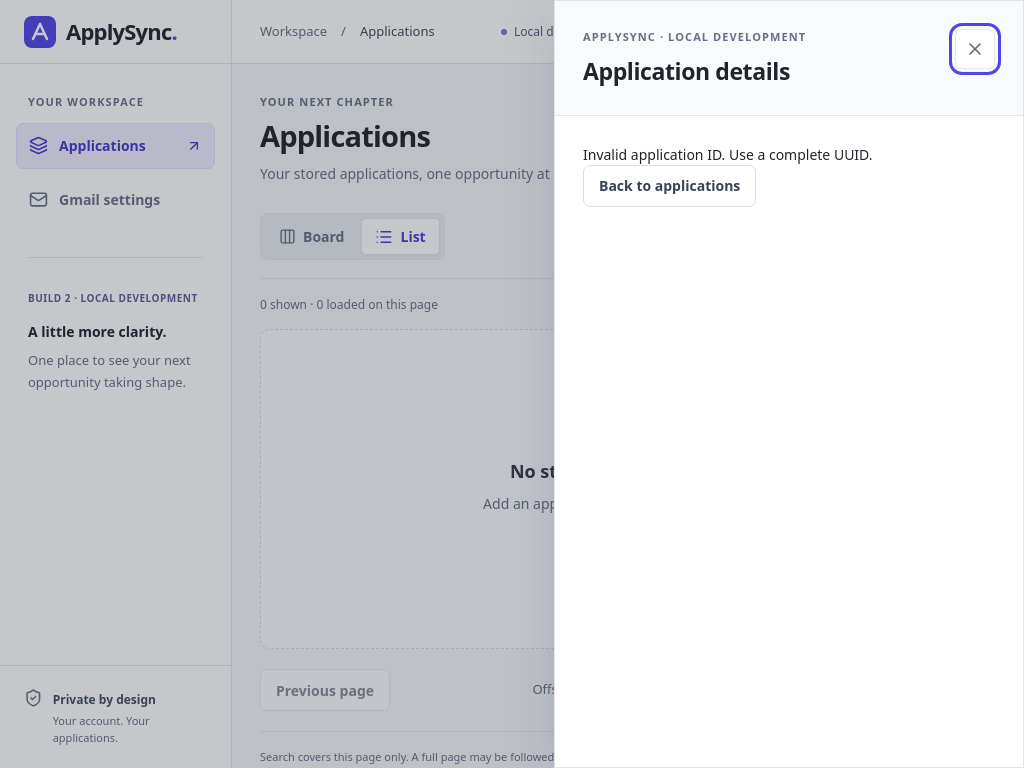
Test: loads direct details, distinguishes missing/malformed IDs, and never fetches preview data
The image size is (1024, 768).
Check: the message shows "Invalid application ID", box [583, 144, 872, 164]
Click the button "Back to applications" at (670, 186), box [583, 164, 756, 206]
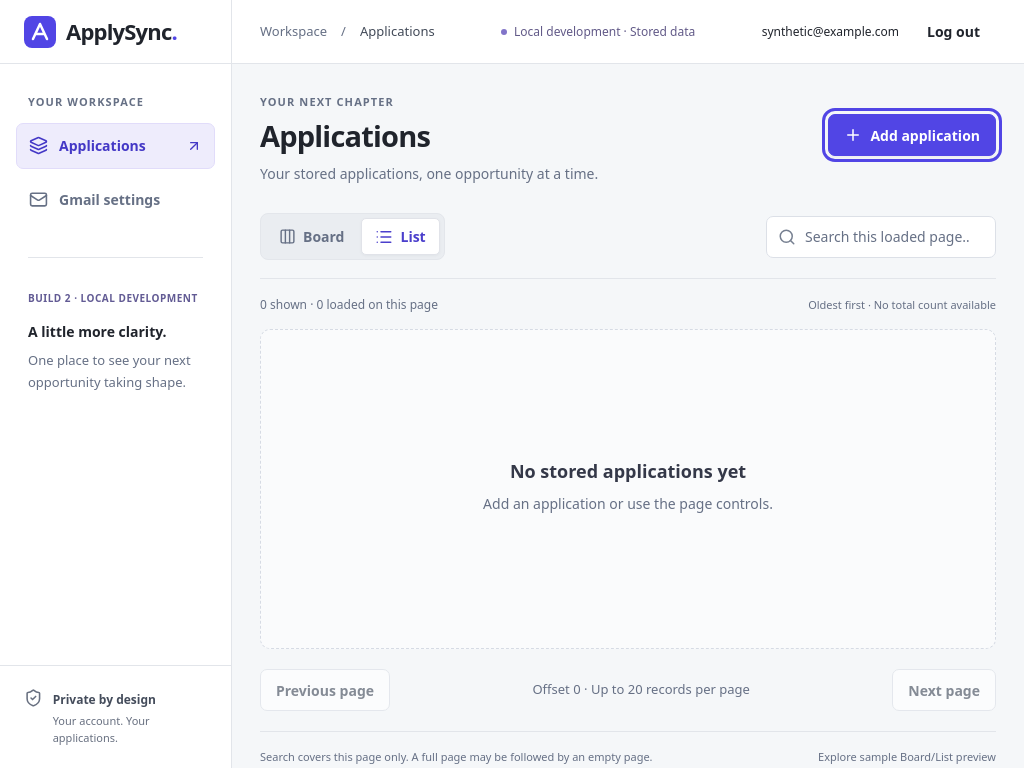
Click the link "Explore sample Board/List preview" at (907, 757), box [818, 749, 996, 766]
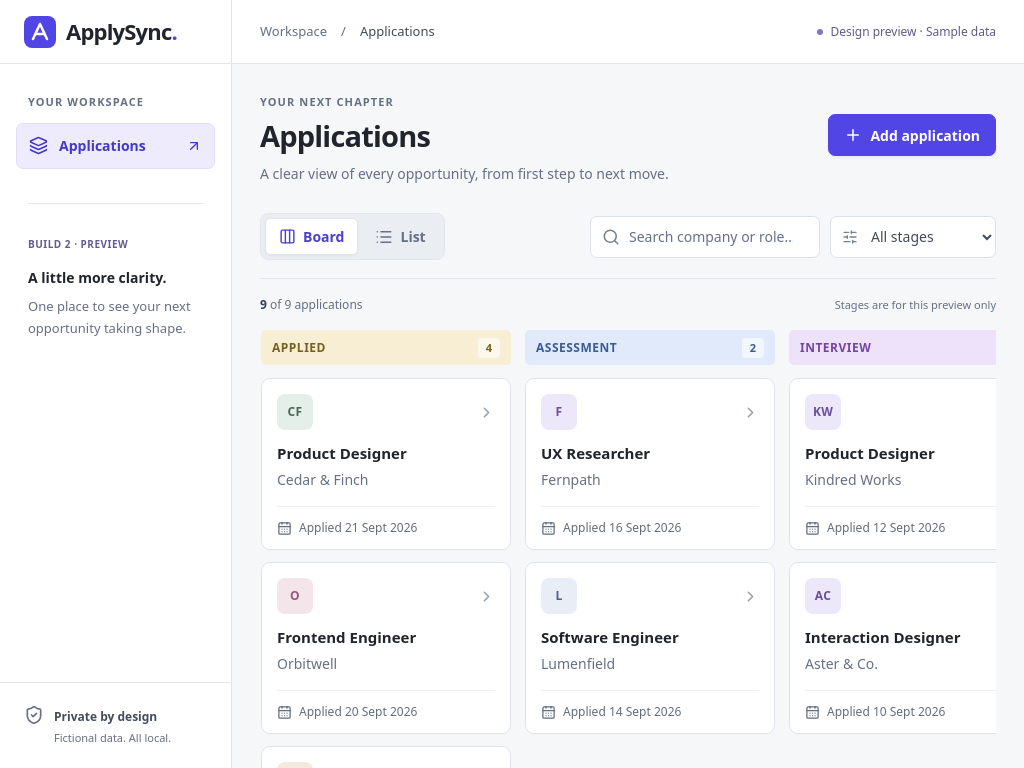
Check: the text "Cedar & Finch" is shown, box [277, 470, 368, 489]
Check: the text "Design preview · Sample data" is shown, box [817, 22, 996, 40]
